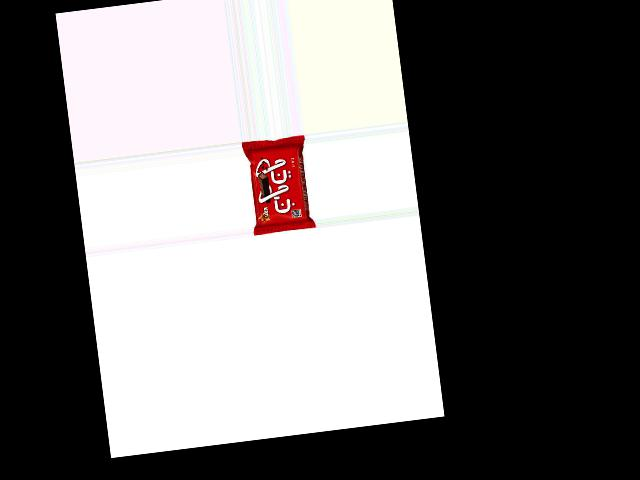chocolate: (242, 135, 317, 235)
